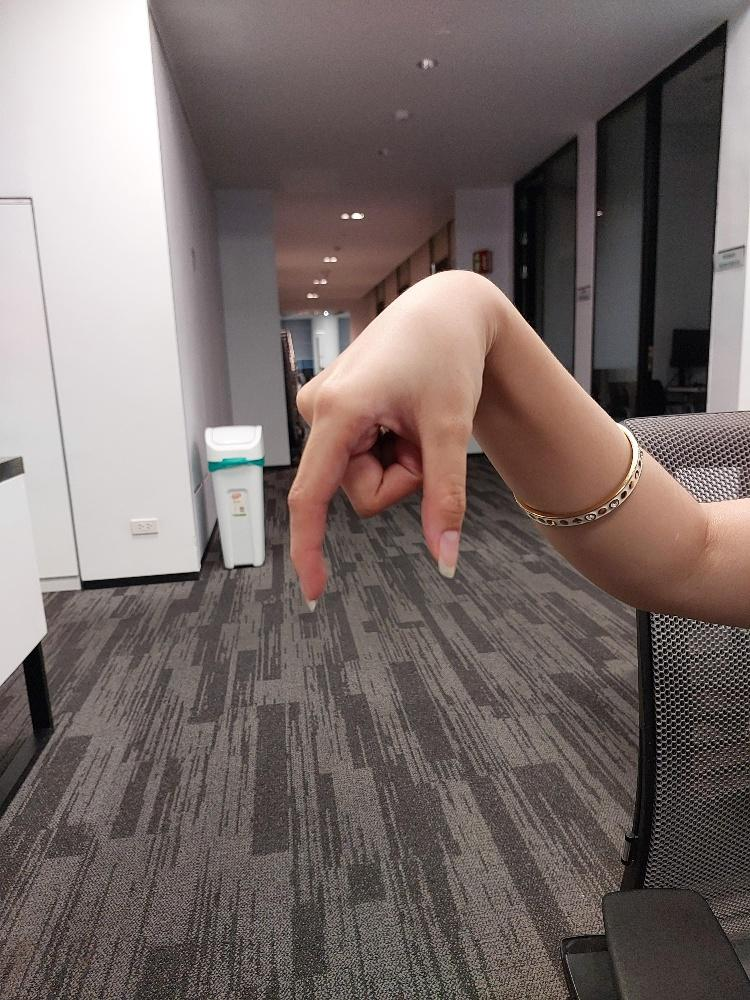q: (283, 264, 490, 613)
